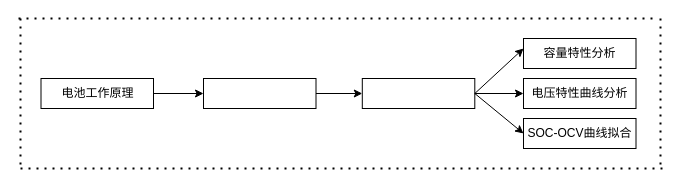
This 687x187 diagram has some shape labels left out. The shapes that lost their labels are listed below. From the top down, each one's centre as x and y in pixels, then its label:
At [259,93]: "电池性能实验".
At [418,93]: "电池性能分析".
